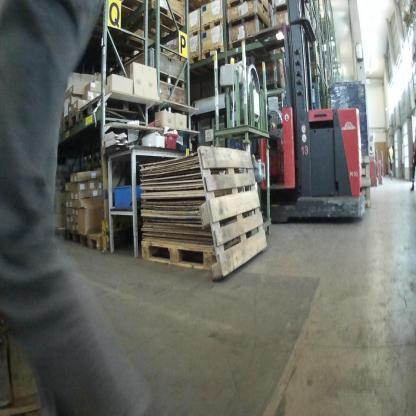pallets: (138, 236, 223, 281), (185, 37, 257, 68), (56, 226, 110, 254), (227, 8, 263, 35), (185, 21, 225, 41)
